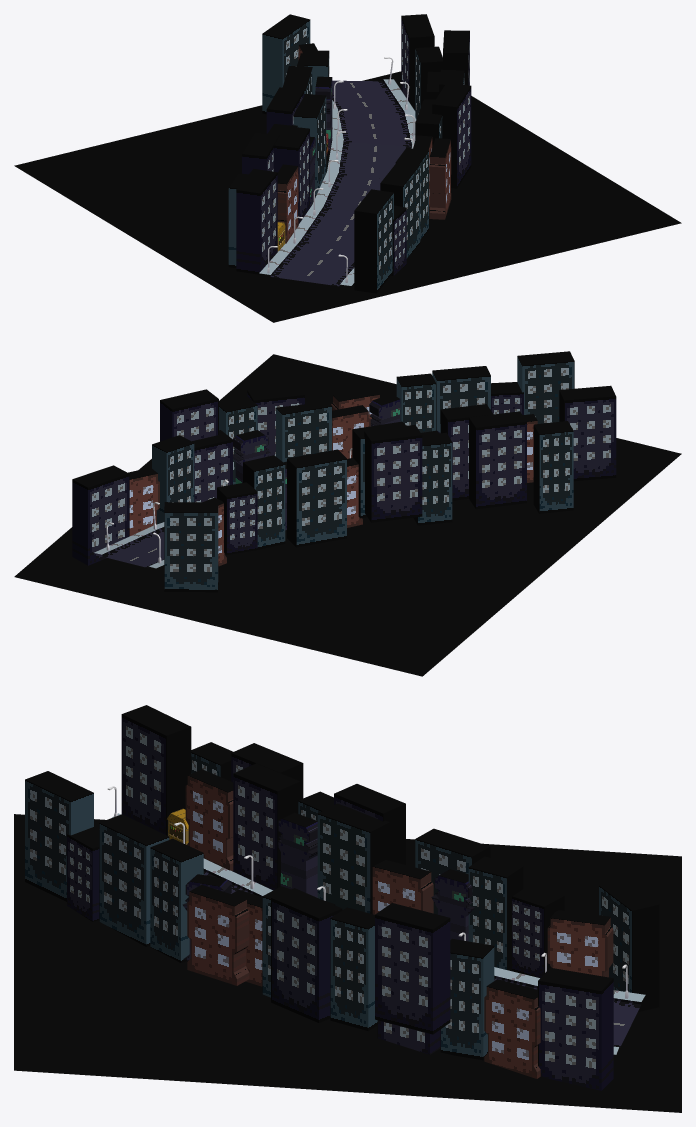
The model's file is TravelScene.fbx.
3 renders of one model, top to bottom at view 1: azimuth 30°, elevation 25°; view 2: azimuth 150°, elevation 25°; view 3: azimuth 270°, elevation 25°, orthographic. The views are drawn at different scales.
Visible parts, largest first — view 1: Plane, Road, Bld2.001, Bld6.007, Bld6.006, Bld1.005, Bld6.008, Bld1.002, Bld2.002, Bld6.002, Bld3.003, Bld3.001 (+11 smaller); view 2: Plane, Bld6.005, Bld1.004, Bld1.003, Bld6.006, Bld2.002, Bld2.001, Bld6.003, Bld6.007, Bld6.011, Bld6.001, Bld6.004 (+19 smaller); view 3: Plane, Bld1.006, Bld2.002, Bld2.001, Bld1.005, Bld6.008, Bld6.002, Bld6.007, Bld1.002, Bld6.006, Bld3.003, Bld6.009 (+21 smaller).
Boxes of the visible parts, <box> form: Plane: <box>14,71,681,322</box>; Road: <box>259,79,416,286</box>; Bld2.001: <box>236,168,277,274</box>; Bld6.007: <box>354,189,393,293</box>; Bld6.006: <box>262,14,310,114</box>; Bld1.005: <box>432,83,471,188</box>; Bld6.008: <box>380,161,420,258</box>; Bld1.002: <box>273,126,309,224</box>; Bld2.002: <box>401,14,434,110</box>; Bld6.002: <box>293,94,326,195</box>; Bld3.003: <box>429,138,451,219</box>; Bld3.001: <box>277,164,298,243</box>; Plane: <box>14,354,681,676</box>; Bld6.005: <box>287,449,346,547</box>; Bld1.004: <box>364,425,422,522</box>; Bld1.003: <box>469,411,526,509</box>; Bld6.006: <box>164,502,218,592</box>; Bld2.002: <box>72,465,129,565</box>; Bld2.001: <box>559,385,616,481</box>; Bld6.003: <box>533,421,573,513</box>; Bld6.007: <box>517,351,574,423</box>; Bld6.011: <box>276,396,332,462</box>; Bld6.001: <box>243,455,285,550</box>; Bld6.004: <box>413,432,452,525</box>; Plane: <box>14,814,681,1112</box>; Bld1.006: <box>375,903,450,1034</box>; Bld2.002: <box>538,967,613,1090</box>; Bld2.001: <box>121,705,191,835</box>; Bld1.005: <box>271,888,342,1022</box>; Bld6.008: <box>99,814,169,946</box>; Bld6.002: <box>317,803,390,914</box>; Bld6.007: <box>25,771,93,901</box>; Bld1.002: <box>233,763,300,890</box>; Bld6.006: <box>599,879,659,1011</box>; Bld3.003: <box>187,885,249,985</box>; Bld6.009: <box>330,907,377,1030</box>.
Bounding box in the file's own units: 1050 × 306 × 1155.
